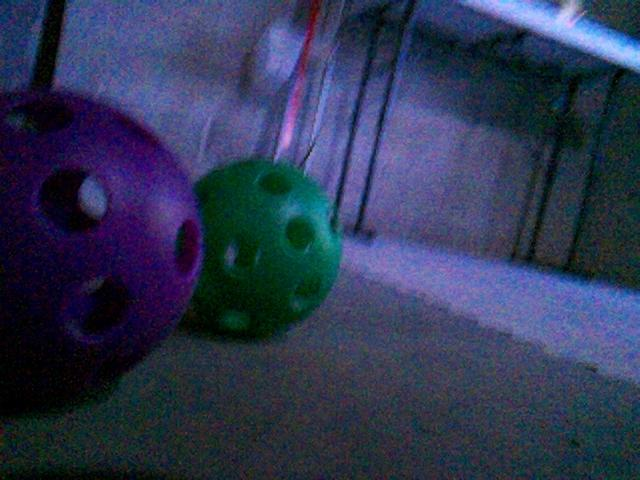Green: (182, 157, 343, 341)
Purple: (0, 93, 206, 417)
